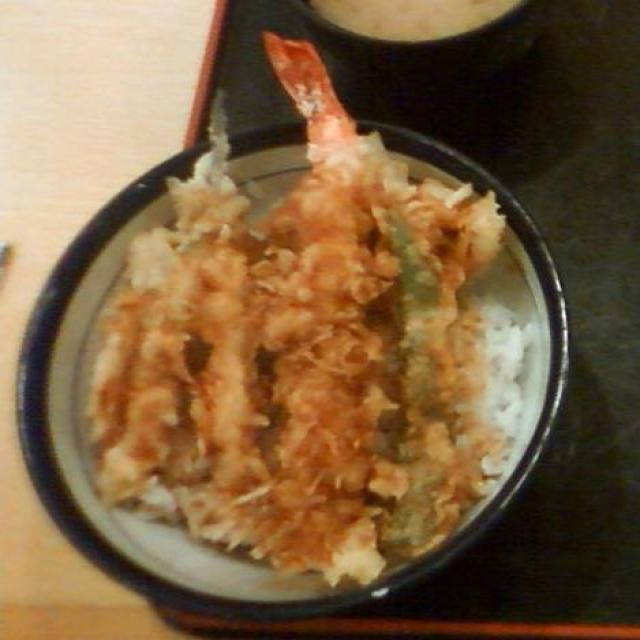熟制海鲜: (18, 34, 585, 614)
